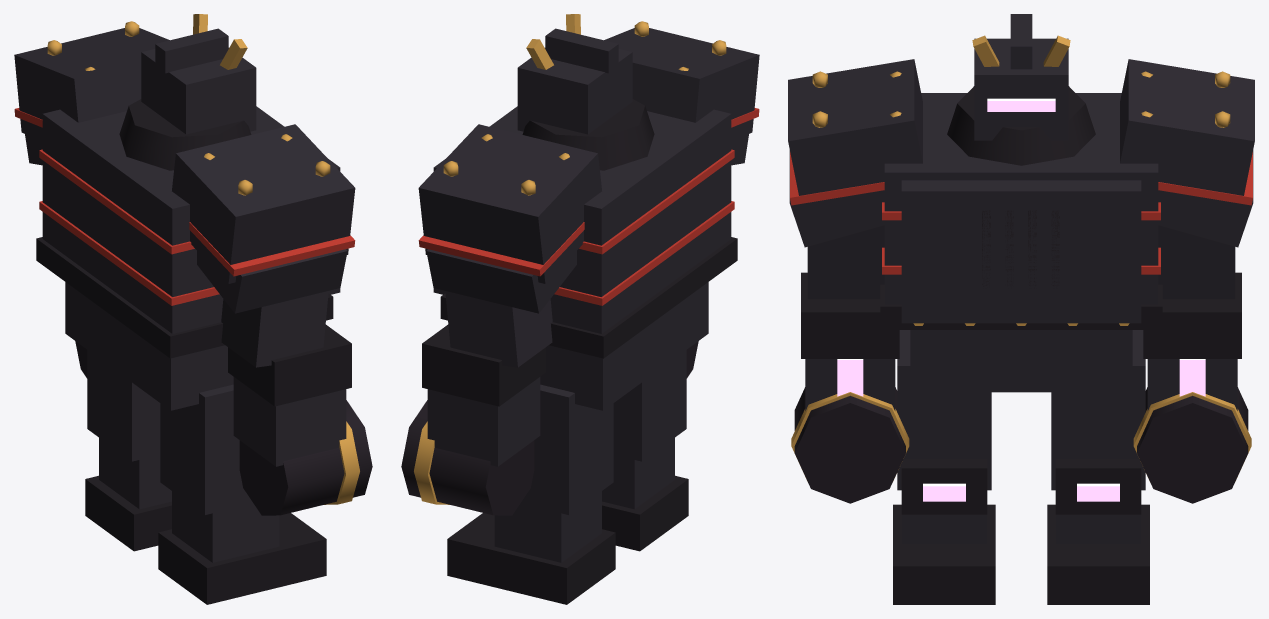
Rendered from enemy_boss_iron.glb.
3 renders of one model, left to right at view 1: azimuth 30°, elevation 25°; view 2: azimuth 150°, elevation 25°; view 3: azimuth 270°, elevation 25°, orthographic. The views are drawn at different scales.
Parts seen in each view (by area): view 1: torso, pauldron_l, pauldron_r, thigh_l, hips, foot_l, head, arm_l_lower, fist_l, arm_l_upper, thigh_r, arm_l_bracer (+12 smaller); view 2: torso, pauldron_r, pauldron_l, thigh_r, hips, foot_r, head, arm_r_lower, fist_r, arm_r_upper, thigh_l, arm_r_bracer (+12 smaller); view 3: chest_plate, pauldron_l, pauldron_r, hips, torso, fist_l, fist_r, thigh_l, thigh_r, foot_l, foot_r, head (+25 smaller).
Part boxes in pixels (x1,y1,x2,y2): torso: (42,109,270,333); pauldron_l: (172,124,355,283); pauldron_r: (14,28,169,140); thigh_l: (160,384,252,514); hips: (65,282,233,410); foot_l: (158,513,326,604); head: (141,48,256,134); arm_l_lower: (233,377,346,466); fist_l: (239,400,372,515); arm_l_upper: (221,291,328,367); thigh_r: (87,350,160,461); arm_l_bracer: (228,324,351,406); torso: (503,109,731,333); pauldron_r: (418,124,601,283); pauldron_l: (604,28,759,140); thigh_r: (521,384,613,514); hips: (540,282,708,410); foot_r: (447,513,615,604); head: (517,48,632,134); arm_r_lower: (427,377,540,466); fist_r: (401,400,534,515); arm_r_upper: (445,291,552,367); thigh_l: (613,350,686,461); arm_r_bracer: (422,324,545,406); chest_plate: (901,180,1141,323); pauldron_l: (788,59,922,217); pauldron_r: (1120,59,1254,217); hips: (910,330,1132,392); torso: (884,93,1158,304); fist_l: (794,387,905,503); fist_r: (1137,387,1248,503); thigh_l: (897,330,991,490); thigh_r: (1051,330,1145,490); foot_l: (893,504,995,604); foot_r: (1047,504,1149,604); head: (974,38,1068,140).
Size of the model in its own units: 0.256 by 0.7018 by 0.5455.
